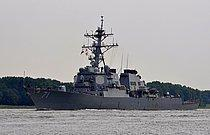MIL_Ship: (22, 16, 200, 111)
